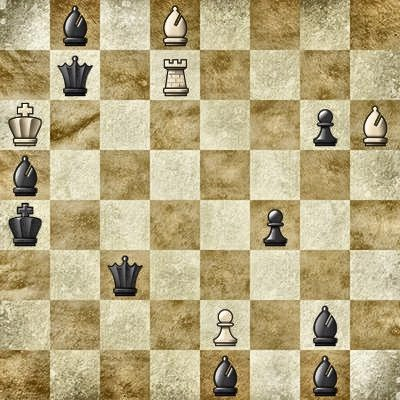black-bishop: (50, 0, 100, 50), (0, 150, 50, 200), (300, 300, 350, 350), (200, 350, 250, 400), (300, 350, 350, 400)
black-king: (0, 200, 50, 250)
black-pawn: (300, 100, 350, 150), (250, 200, 300, 250)
black-queen: (50, 50, 100, 100), (100, 250, 150, 300)
white-bishop: (150, 0, 200, 50), (350, 100, 400, 150)
white-king: (0, 100, 50, 150)
white-pawn: (200, 300, 250, 350)
white-rook: (150, 50, 200, 100)
